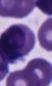D: (0, 24, 36, 62)
